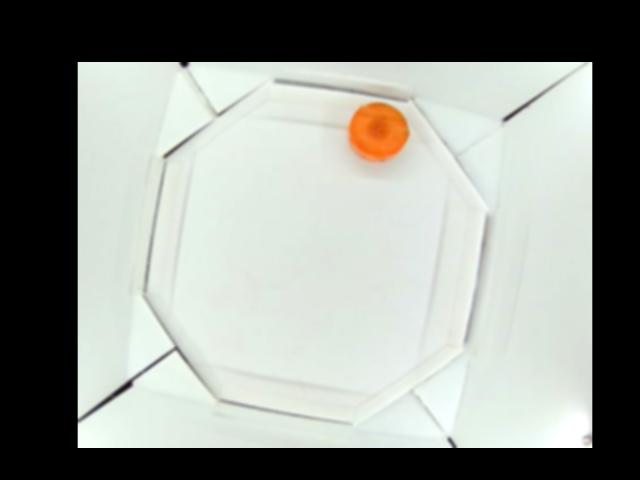Carrot: (347, 103, 409, 160)
